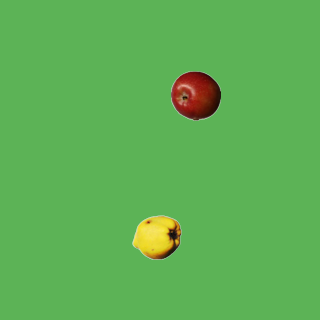Apple Braeburn: (170, 70, 220, 120)
Quince: (131, 212, 181, 262)
